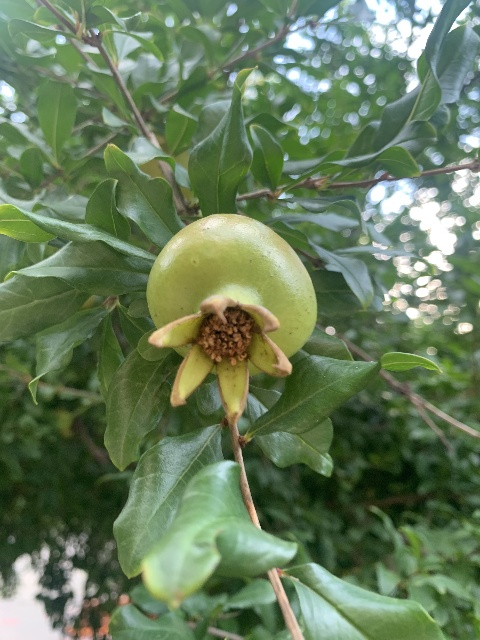mid-growth: (145, 212, 318, 427)
